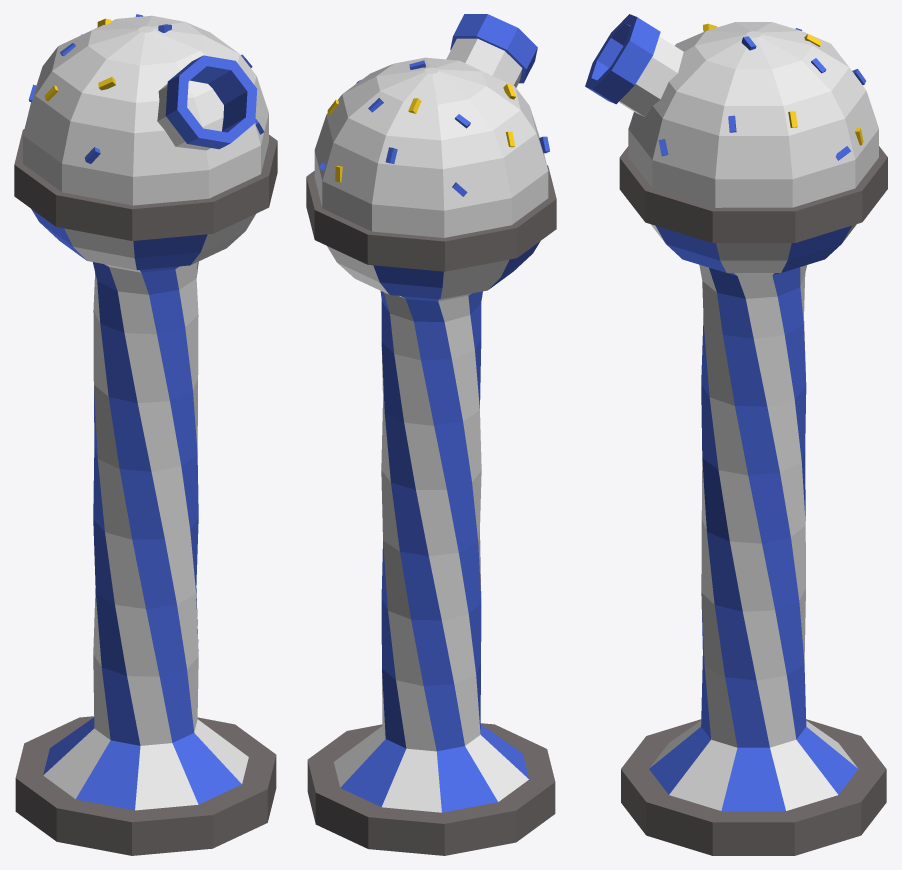
File: Tower_Attack_AOE (1).fbx
3 renders of one model, left to right at view 1: azimuth 30°, elevation 25°; view 2: azimuth 150°, elevation 25°; view 3: azimuth 270°, elevation 25°, orthographic. The views are drawn at different scales.
Visible parts, largest first — view 1: Cylinder.003, Cube.050; view 2: Cylinder.003, Cube.050; view 3: Cylinder.003, Cube.050.
Part boxes in pixels (x1,y1,x2,y2): Cylinder.003: (14,129,277,855); Cube.050: (23,14,268,205); Cylinder.003: (306,165,556,855); Cube.050: (314,14,549,237); Cylinder.003: (619,146,887,855); Cube.050: (585,14,878,207).
Bounding box in the file's own units: 84.24 × 286 × 99.9.
